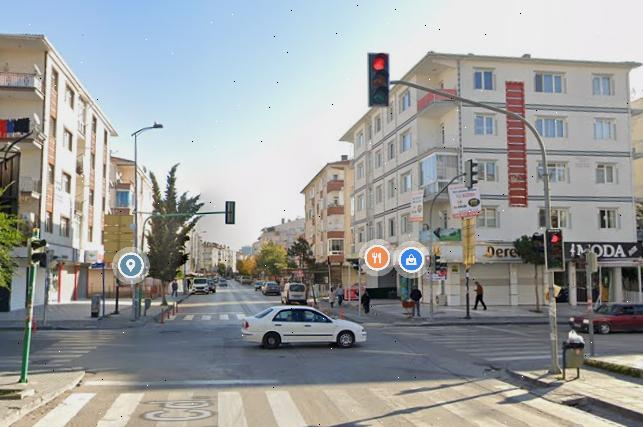redlight: (369, 53, 387, 105), (546, 229, 564, 268)
